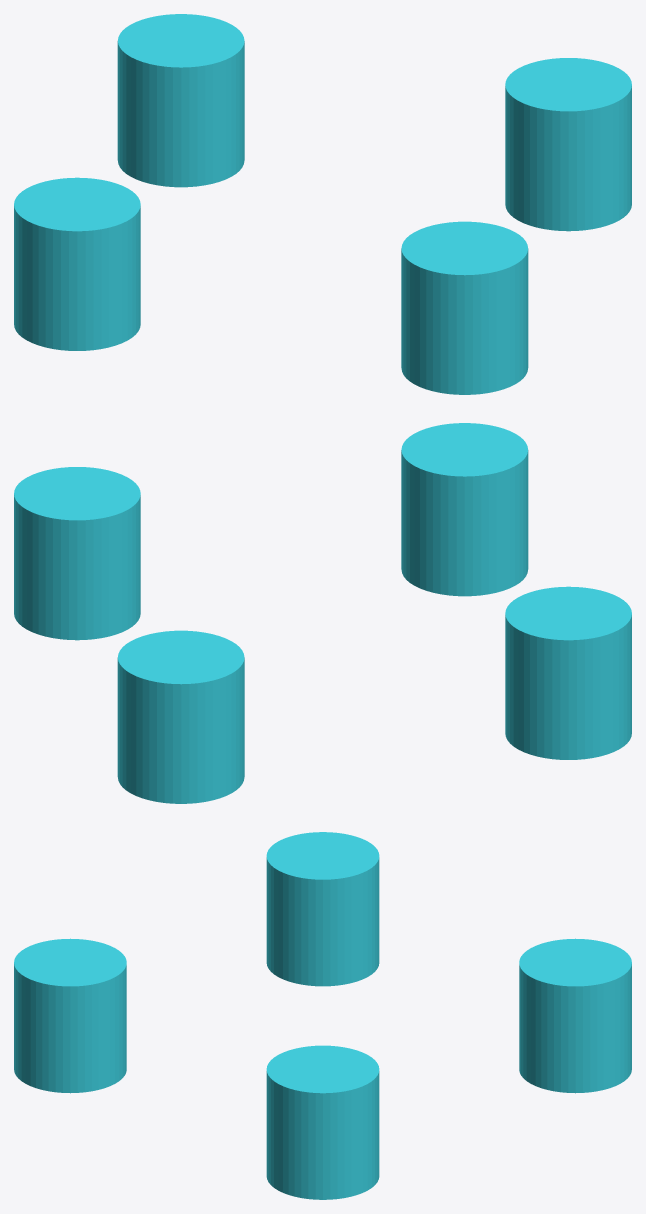
Rendered from ion_thrusters.glb.
The picture shows the model from 3 angles, top to bottom: view 1: azimuth 30°, elevation 25°; view 2: azimuth 150°, elevation 25°; view 3: azimuth 270°, elevation 25°; orthographic projection. The views are drawn at different scales.
Parts seen in each view (by area): view 1: Ion_Engine_02, Ion_Engine_04, Ion_Engine_01, Ion_Engine_03; view 2: Ion_Engine_02, Ion_Engine_04, Ion_Engine_01, Ion_Engine_03; view 3: Ion_Engine_01, Ion_Engine_03, Ion_Engine_02, Ion_Engine_04.
Boxes of the visible parts, x1,y1,x2,y2 form: Ion_Engine_02: (117,14,244,187); Ion_Engine_04: (401,221,528,394); Ion_Engine_01: (505,58,631,231); Ion_Engine_03: (14,177,140,350); Ion_Engine_02: (117,630,244,803); Ion_Engine_04: (401,423,528,596); Ion_Engine_01: (14,467,140,640); Ion_Engine_03: (505,586,631,759); Ion_Engine_01: (266,1045,379,1199); Ion_Engine_03: (266,832,379,986); Ion_Engine_02: (519,938,631,1093); Ion_Engine_04: (14,938,126,1093).
Size of the model in its own units: 2.52 by 0.52 by 2.52.
